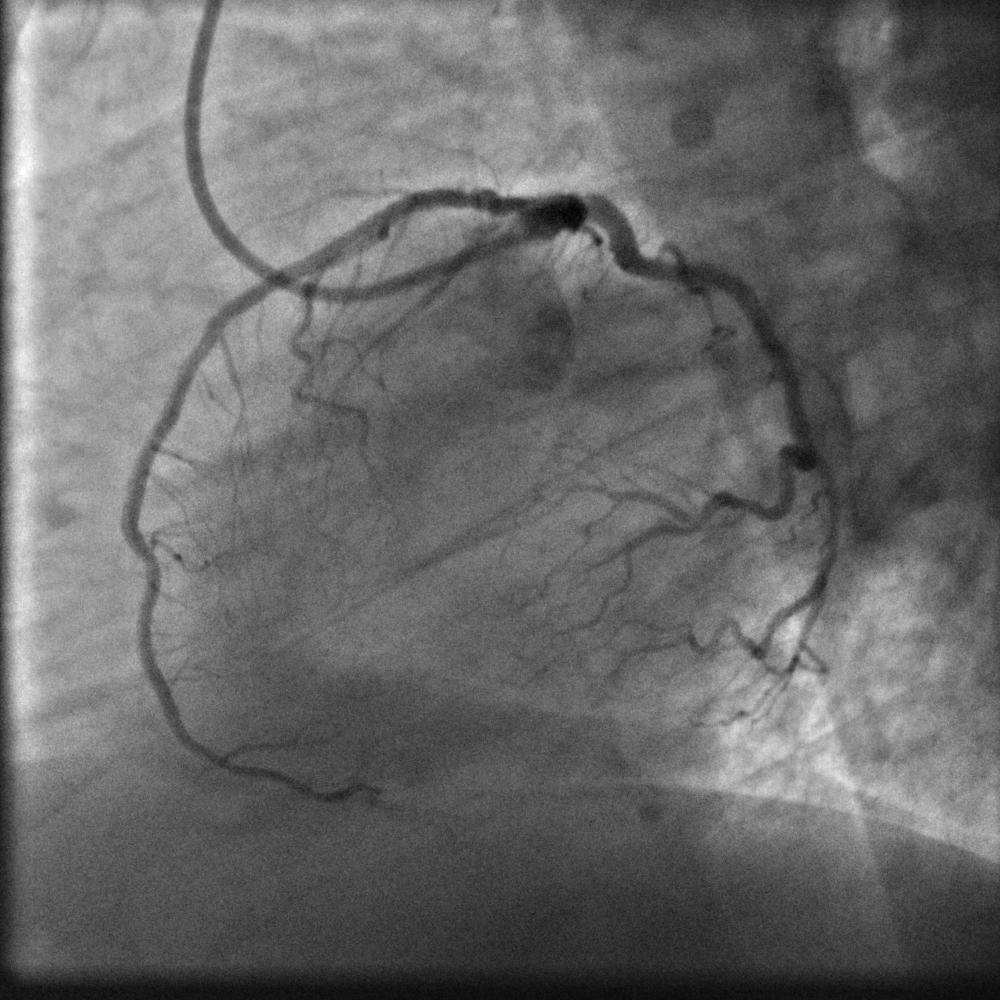Stenosis: (458, 186, 494, 213)
